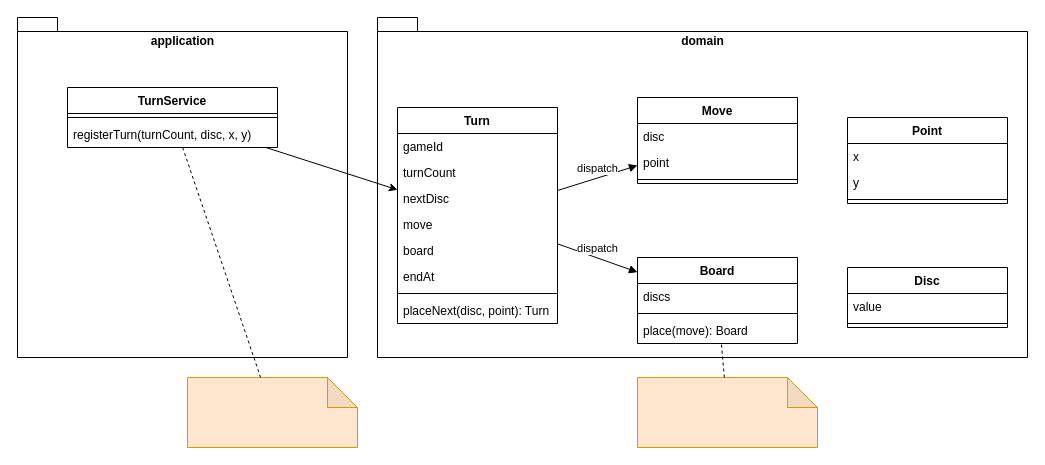
This 1045x465 diagram has some shape labels left out. The shapes that lost their labels are listed below. From the top down, each one's centre as x and y in pixels, then its label:
At [272,412]: "・1つ前のターンを取得する ・石を置く ・ターンを保存".
At [727,412]: "placeの内部では ・盤面に置けるかチェック ・石を置く ・ひっくり返す".
